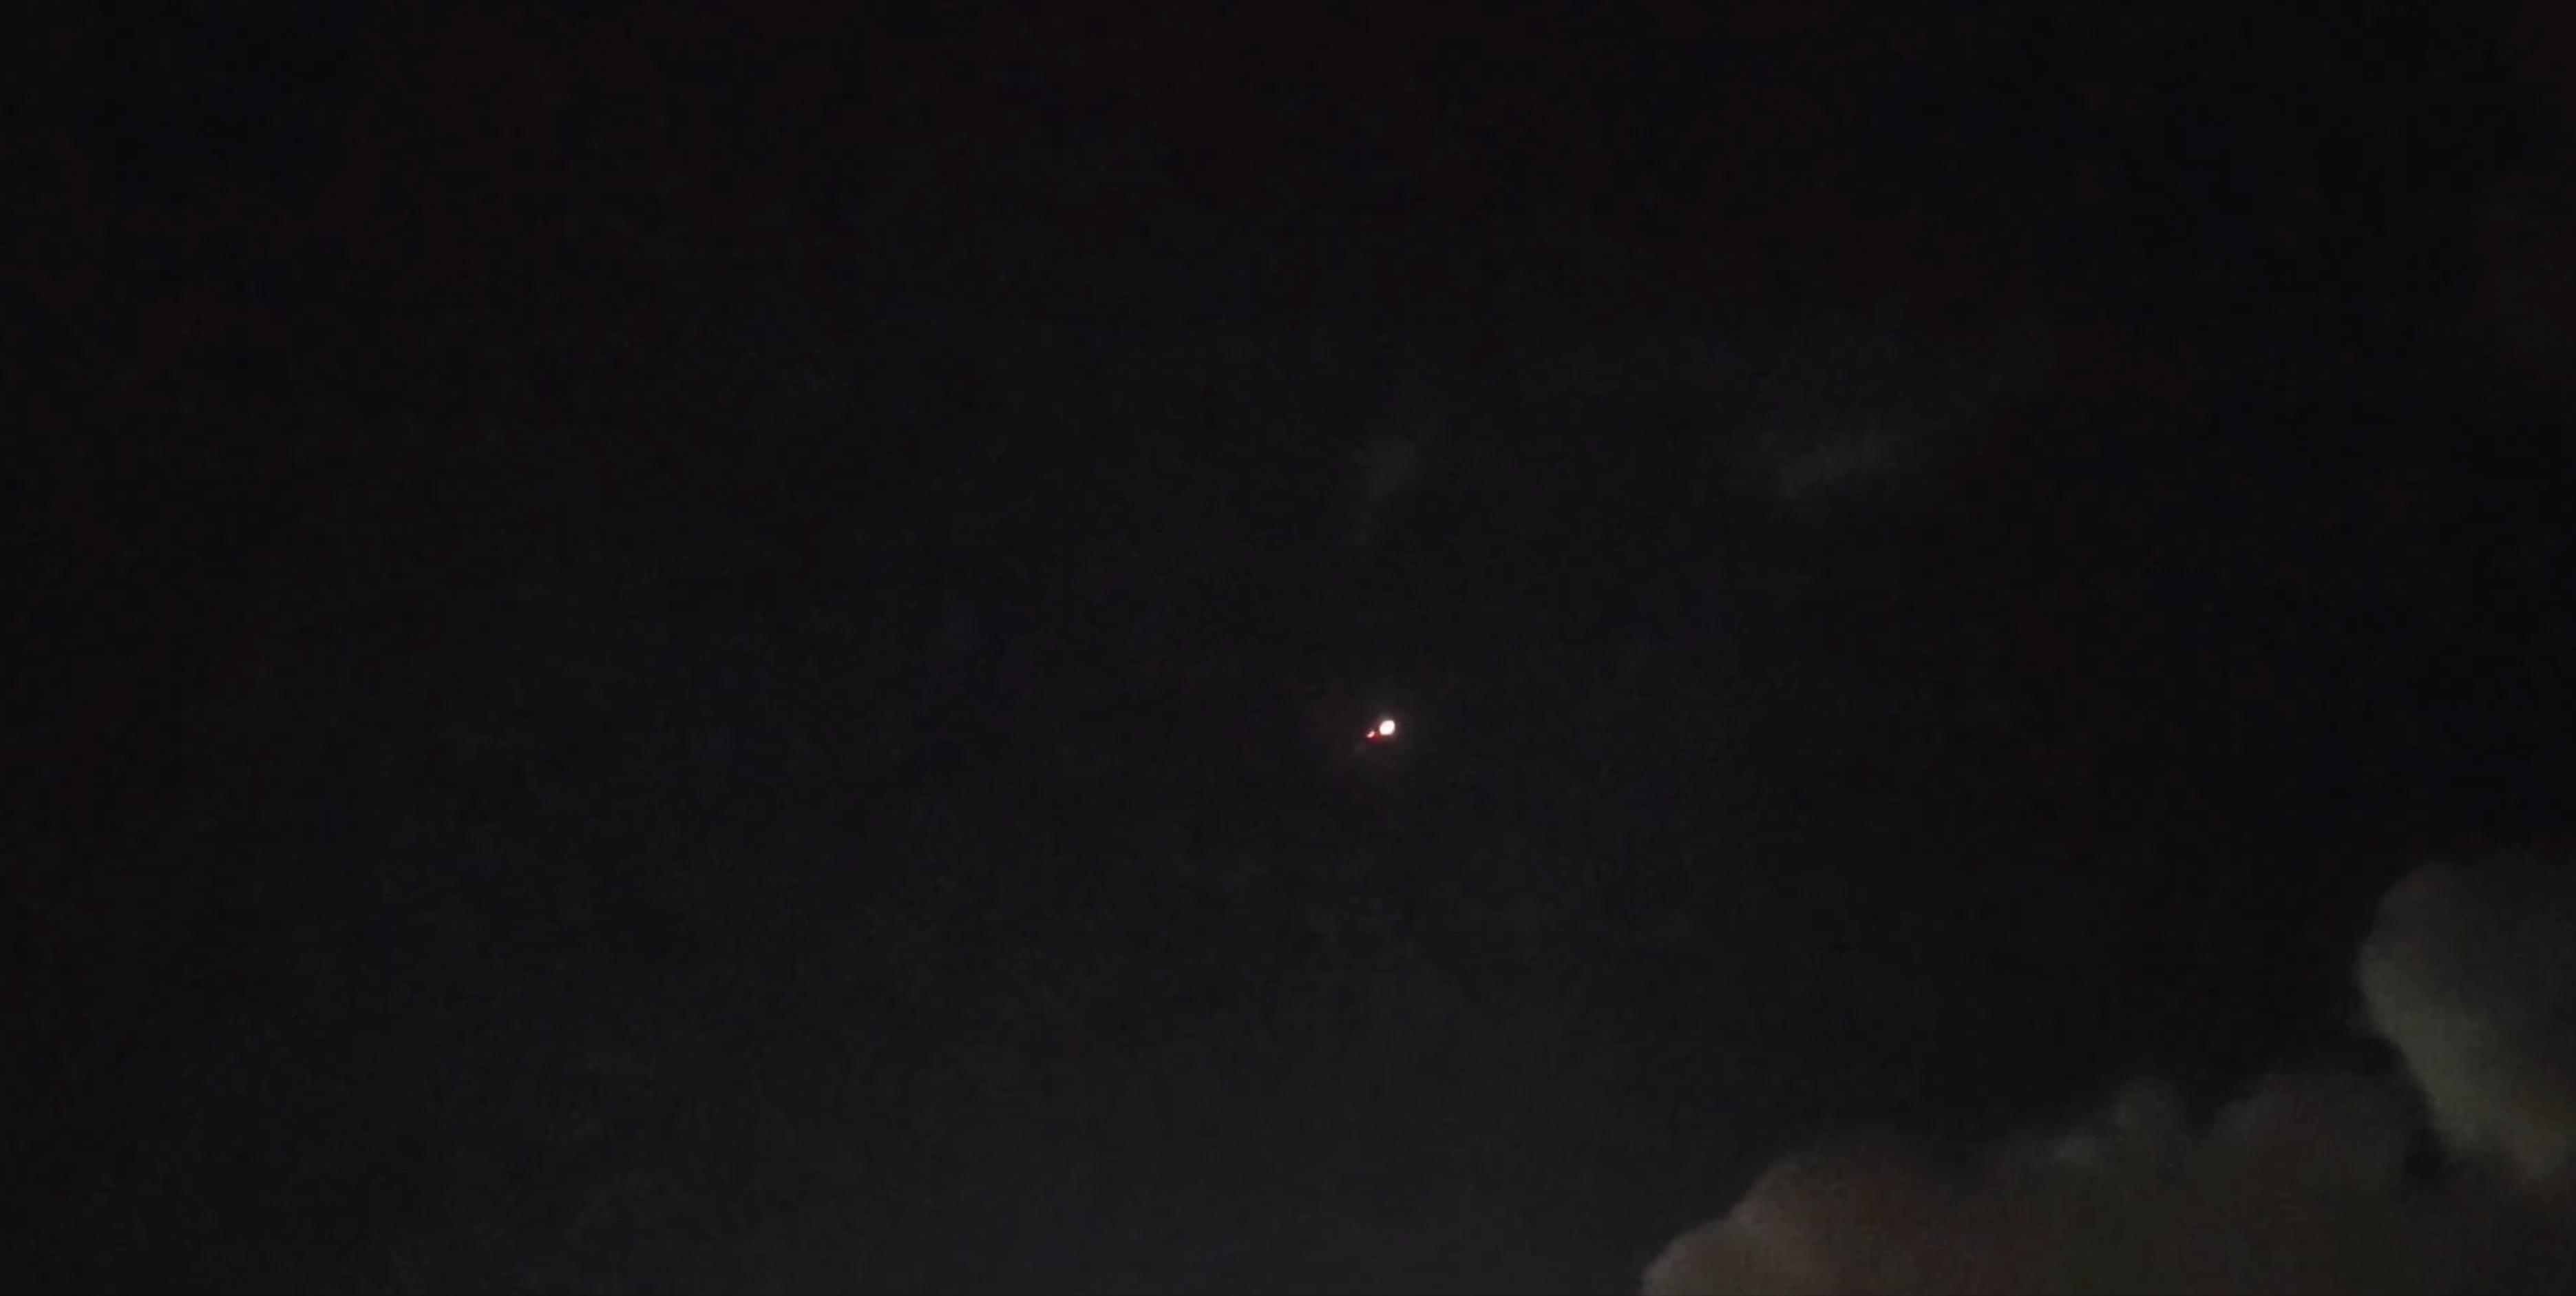Plane: (1300, 688, 1466, 774)
